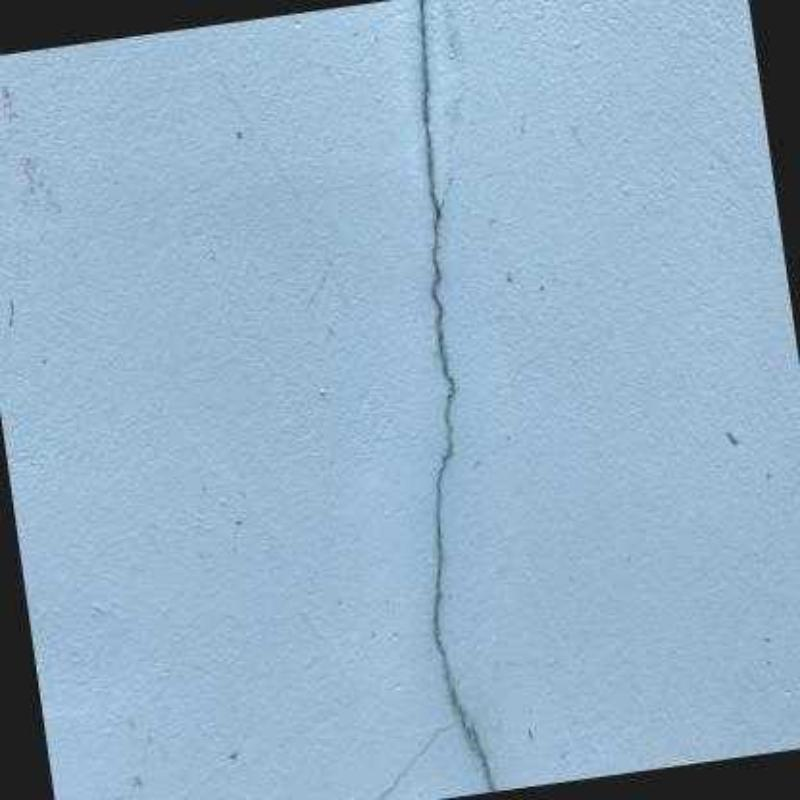pothole: (410, 0, 496, 783)
